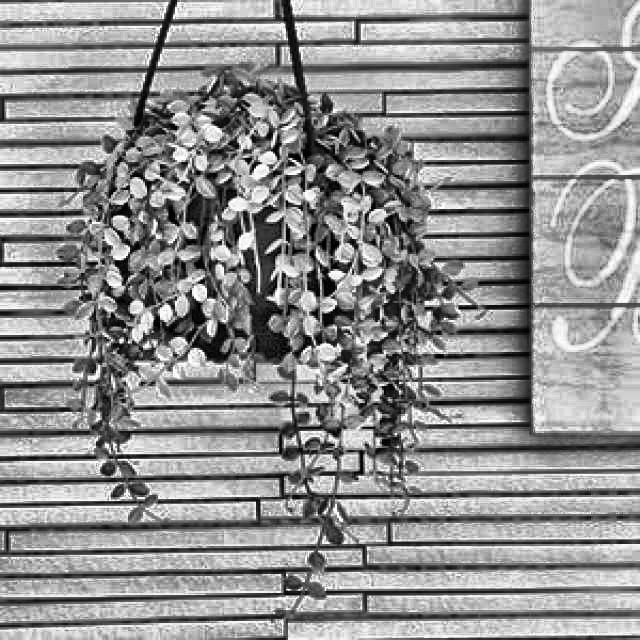plants: (54, 62, 437, 512)
